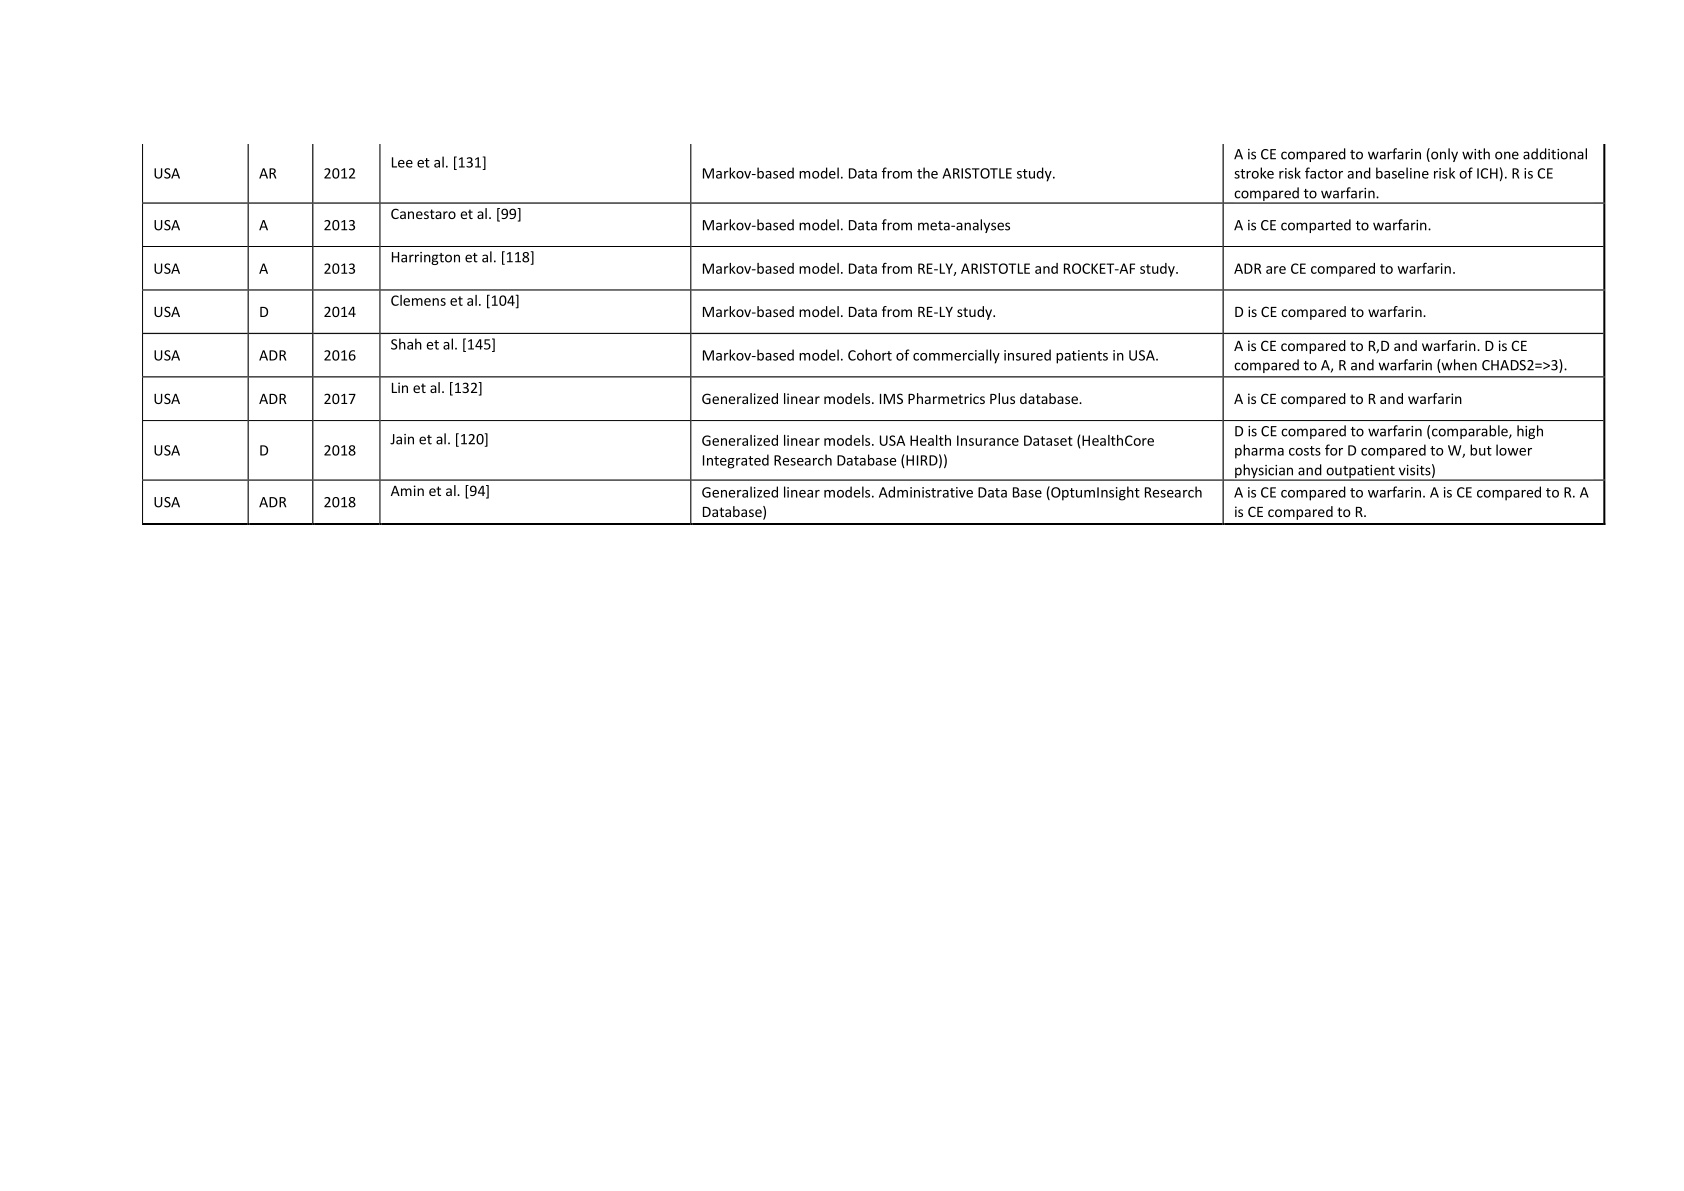partial_lined: (140, 142, 1605, 526)
